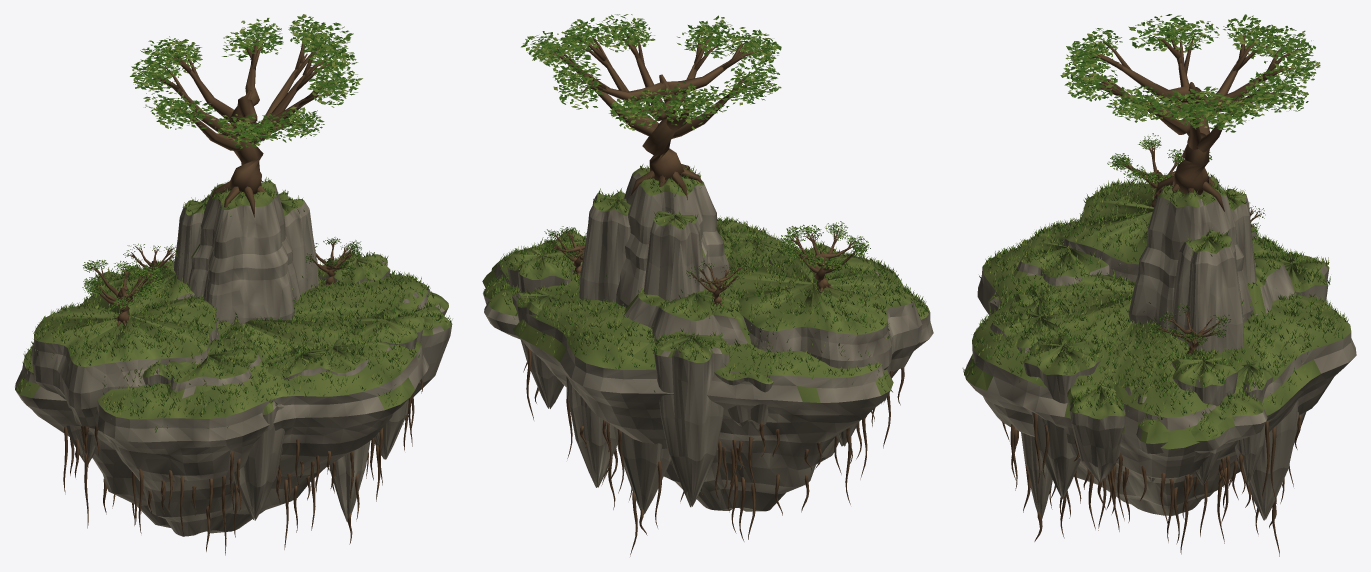
Rendered from garden.glb.
3 renders of one model, left to right at view 1: azimuth 30°, elevation 25°; view 2: azimuth 150°, elevation 25°; view 3: azimuth 270°, elevation 25°, orthographic. The views are drawn at different scales.
Parts seen in each view (by area): view 1: ISL_rock, ISL_grass, ISL_leaves, ISL_bark, ISL_roots; view 2: ISL_rock, ISL_grass, ISL_leaves, ISL_bark, ISL_roots; view 3: ISL_rock, ISL_grass, ISL_leaves, ISL_bark, ISL_roots.
Boxes of the visible parts, x1=… form: ISL_rock: x1=15, y1=181, x2=452, y2=536; ISL_grass: x1=15, y1=177, x2=452, y2=432; ISL_leaves: x1=82, y1=14, x2=362, y2=309; ISL_bark: x1=90, y1=28, x2=356, y2=326; ISL_roots: x1=63, y1=379, x2=423, y2=555; ISL_rock: x1=482, y1=168, x2=933, y2=514; ISL_grass: x1=483, y1=164, x2=929, y2=392; ISL_leaves: x1=521, y1=14, x2=870, y2=288; ISL_bark: x1=547, y1=30, x2=860, y2=306; ISL_roots: x1=523, y1=348, x2=904, y2=556; ISL_rock: x1=964, y1=176, x2=1356, y2=520; ISL_grass: x1=962, y1=172, x2=1348, y2=438; ISL_leaves: x1=1060, y1=14, x2=1320, y2=346; ISL_bark: x1=1085, y1=31, x2=1296, y2=355; ISL_roots: x1=1000, y1=413, x2=1301, y2=556.
Size of the model in its own units: 18.37 by 20.19 by 14.06.
